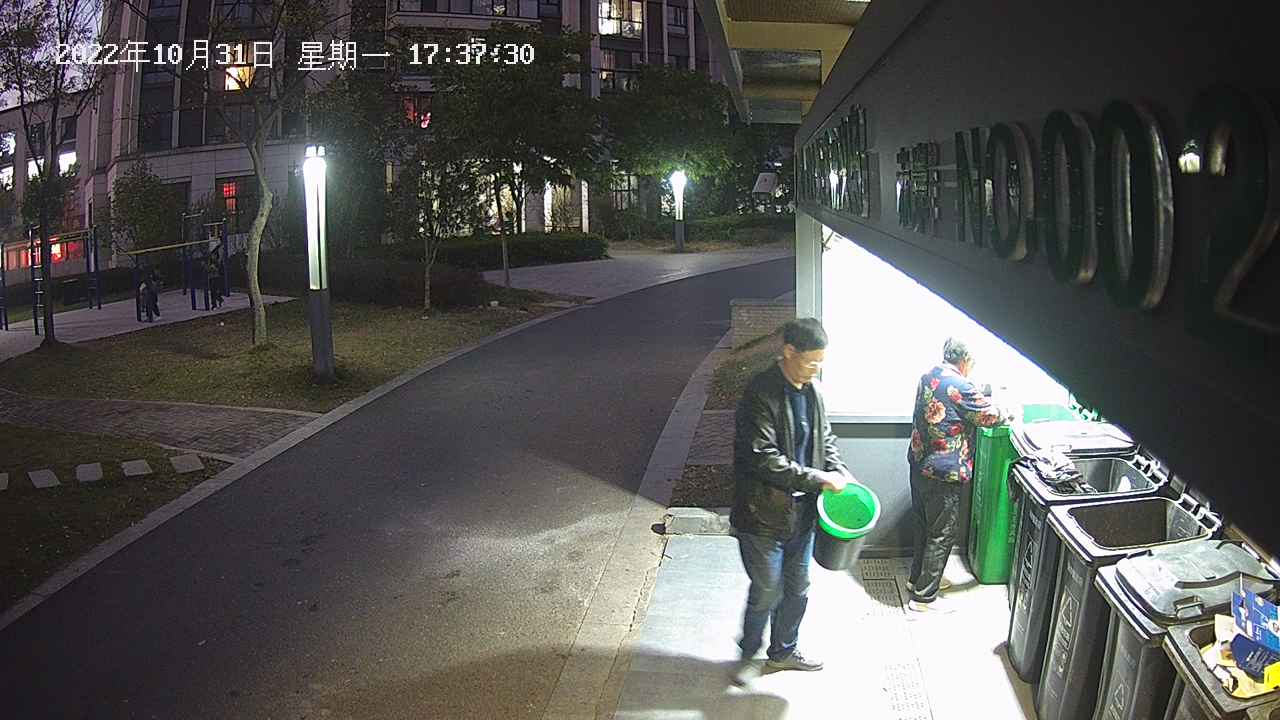person: (729, 317, 855, 690), (904, 334, 1005, 615)
youtong: (812, 477, 882, 574)
